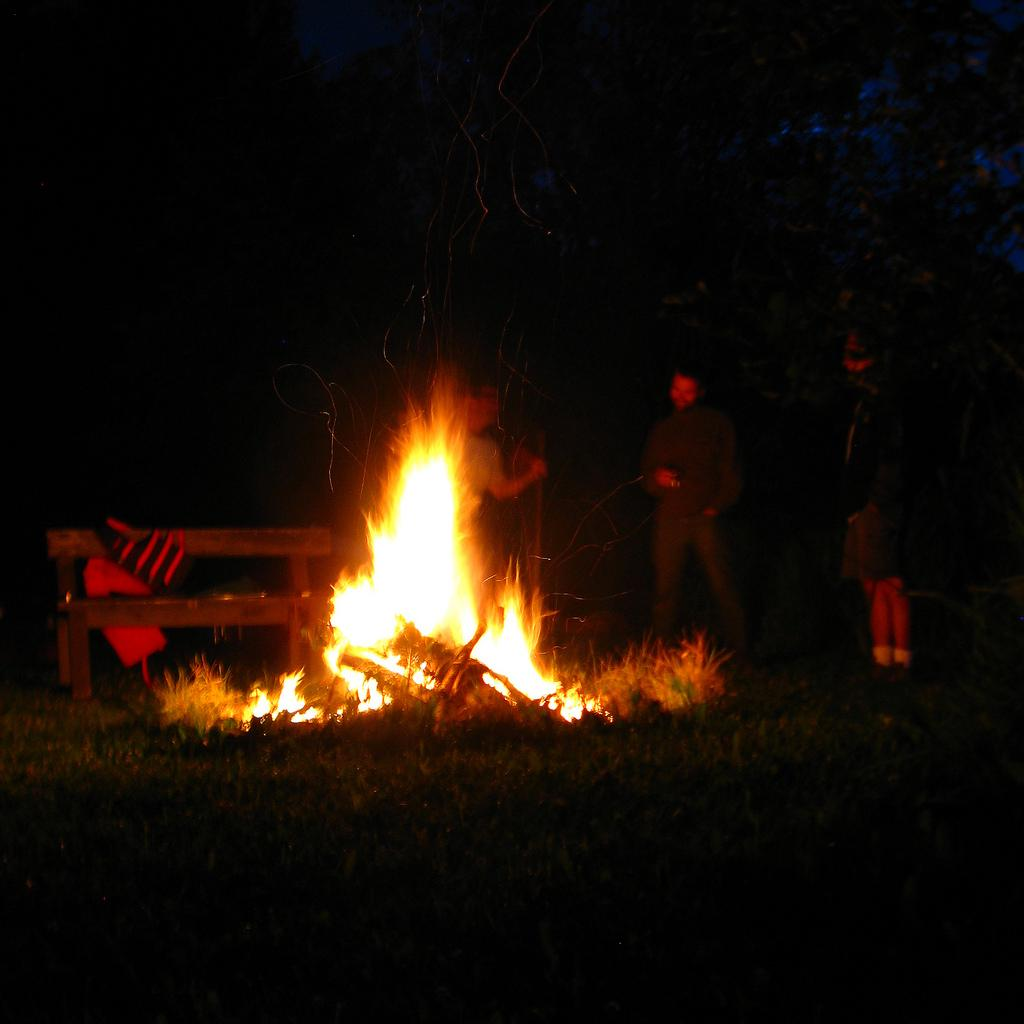fire: (375, 455, 455, 665), (318, 590, 395, 670), (490, 630, 550, 685)
